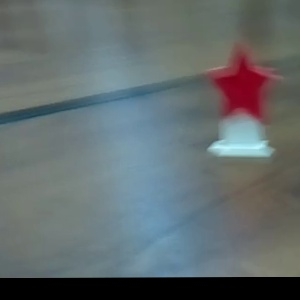star: (190, 37, 286, 168)
